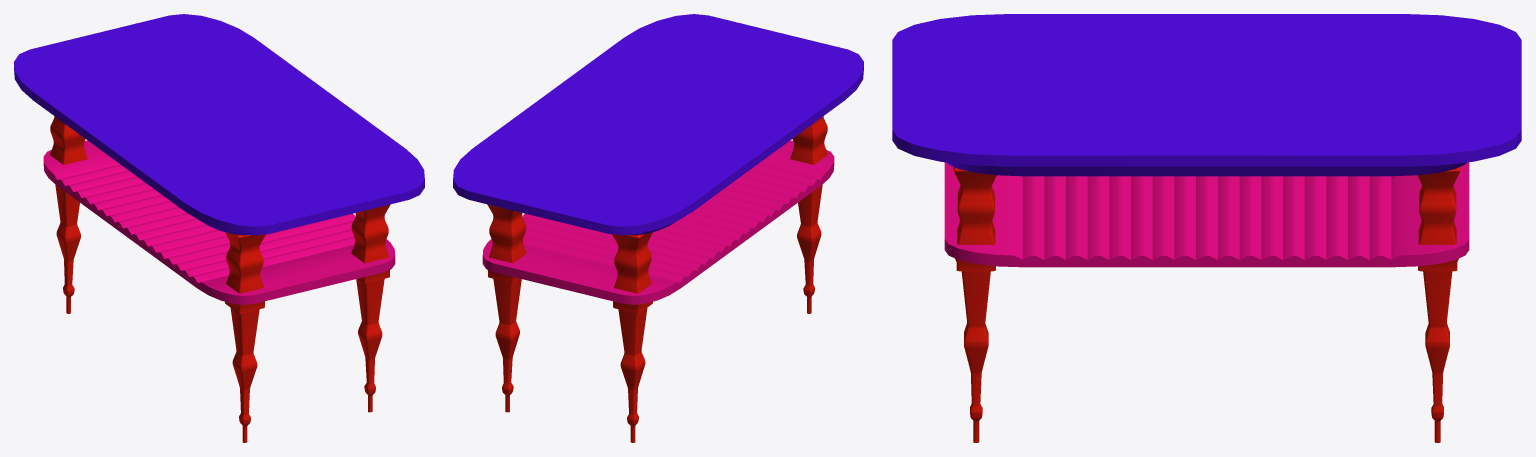
The model's file is Mesa_CFS.fbx.
3 renders of one model, left to right at view 1: azimuth 30°, elevation 25°; view 2: azimuth 150°, elevation 25°; view 3: azimuth 270°, elevation 25°, orthographic. The views are drawn at different scales.
Visible parts, largest first — view 1: Cube.001, Cube.002, Cube.003; view 2: Cube.001, Cube.002, Cube.003; view 3: Cube.001, Cube.002, Cube.003.
Boxes of the visible parts, box(x1,y1,x2,y2) form: Cube.001: box(14, 14, 424, 235); Cube.002: box(43, 140, 395, 304); Cube.003: box(50, 116, 390, 442); Cube.001: box(453, 14, 863, 235); Cube.002: box(482, 140, 834, 304); Cube.003: box(487, 116, 827, 442); Cube.001: box(892, 14, 1521, 176); Cube.002: box(944, 162, 1469, 267); Cube.003: box(953, 167, 1460, 442).
Size of the model in its own units: 98.37 by 103 by 185.
